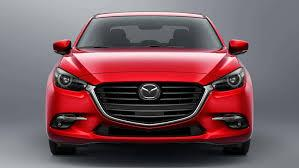mazda: (136, 79, 161, 105)
